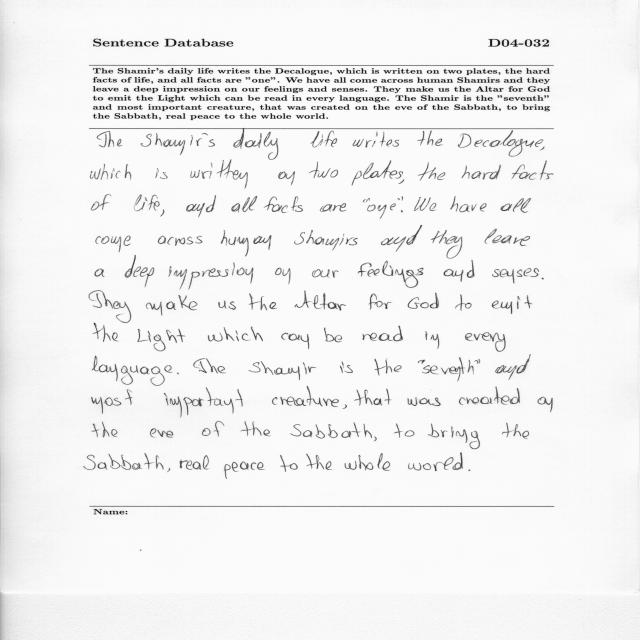word: (164, 387, 243, 418), (92, 356, 173, 386), (169, 262, 254, 290), (458, 130, 543, 157), (358, 261, 424, 288), (190, 160, 248, 189), (141, 133, 215, 155), (272, 386, 339, 407), (233, 130, 278, 160), (89, 291, 131, 323), (84, 453, 163, 470), (352, 160, 403, 186), (221, 230, 271, 256), (422, 357, 474, 382), (428, 424, 480, 449), (249, 361, 317, 380), (294, 230, 358, 250), (291, 422, 361, 439), (381, 225, 422, 252), (459, 387, 520, 405), (137, 329, 186, 351), (146, 295, 197, 316), (408, 453, 463, 472), (92, 389, 133, 414), (295, 291, 346, 311), (495, 354, 531, 380), (96, 236, 136, 259), (431, 230, 463, 258), (208, 327, 263, 342), (125, 259, 154, 287), (345, 453, 390, 471), (465, 332, 505, 352), (512, 161, 554, 180), (492, 295, 533, 314), (485, 229, 530, 246), (224, 461, 265, 479), (353, 132, 399, 148), (366, 198, 400, 219), (492, 268, 539, 283), (444, 260, 475, 282), (264, 196, 303, 213), (186, 196, 216, 218), (91, 164, 132, 180), (354, 389, 391, 406), (362, 326, 403, 341), (450, 197, 487, 213), (462, 165, 501, 180), (408, 292, 439, 309), (418, 162, 445, 181), (193, 359, 226, 374), (93, 323, 119, 342), (309, 162, 338, 179), (249, 294, 277, 311), (374, 359, 402, 376), (501, 198, 531, 213), (179, 455, 209, 470), (281, 333, 309, 349), (311, 131, 337, 148), (134, 195, 160, 212), (158, 236, 202, 246), (502, 423, 529, 439), (92, 421, 117, 438), (242, 422, 270, 437), (97, 131, 123, 147), (417, 130, 443, 146), (232, 196, 258, 212), (306, 454, 332, 470), (369, 294, 392, 310), (202, 421, 224, 437), (92, 194, 112, 211), (394, 423, 415, 438), (414, 197, 436, 211), (407, 397, 441, 406), (280, 455, 298, 472), (455, 294, 472, 311), (324, 328, 342, 342), (426, 331, 440, 349), (312, 269, 339, 278), (275, 268, 290, 284), (278, 172, 295, 186), (320, 203, 346, 212), (538, 397, 553, 412), (364, 424, 377, 441), (150, 429, 173, 438), (218, 301, 236, 310), (155, 168, 168, 179), (340, 362, 353, 373), (95, 268, 105, 277), (160, 210, 165, 217), (474, 359, 480, 364), (418, 360, 425, 364), (399, 179, 404, 184), (540, 147, 545, 151), (343, 404, 347, 409), (167, 468, 170, 472), (363, 199, 366, 202), (401, 197, 403, 201), (401, 210, 403, 213), (542, 278, 544, 280), (469, 469, 471, 471), (177, 373, 179, 374)
